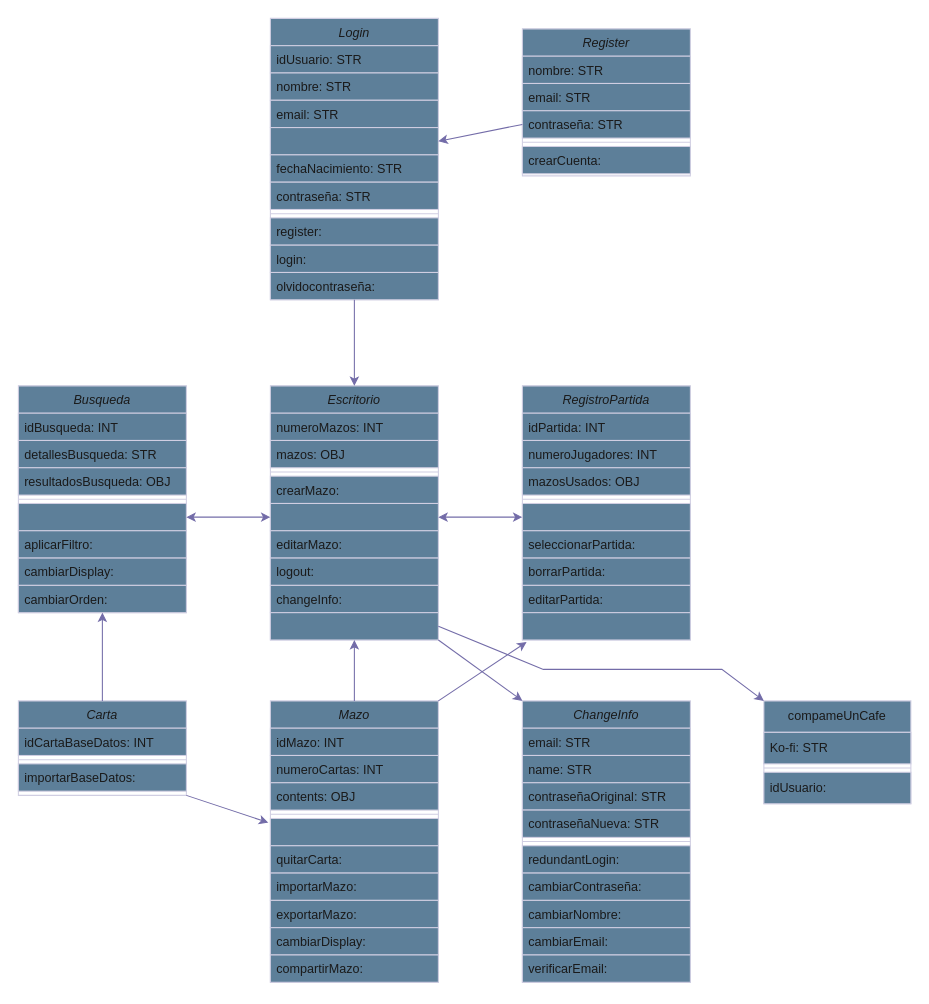
Image size: 929x1004. Some labels were removed from this diagram. The shapes that lost their labels are listed below. From the top down, each one's centre as x and y in pixels, then its label:
[353,141]: codigoPostal: INT
[101,516]: realizarBusqueda:
[353,516]: borrarMazo:
[605,516]: crearPartida:
[353,626]: comprameUnCafe:
[605,626]: verInfo:
[353,831]: añadirCarta:
